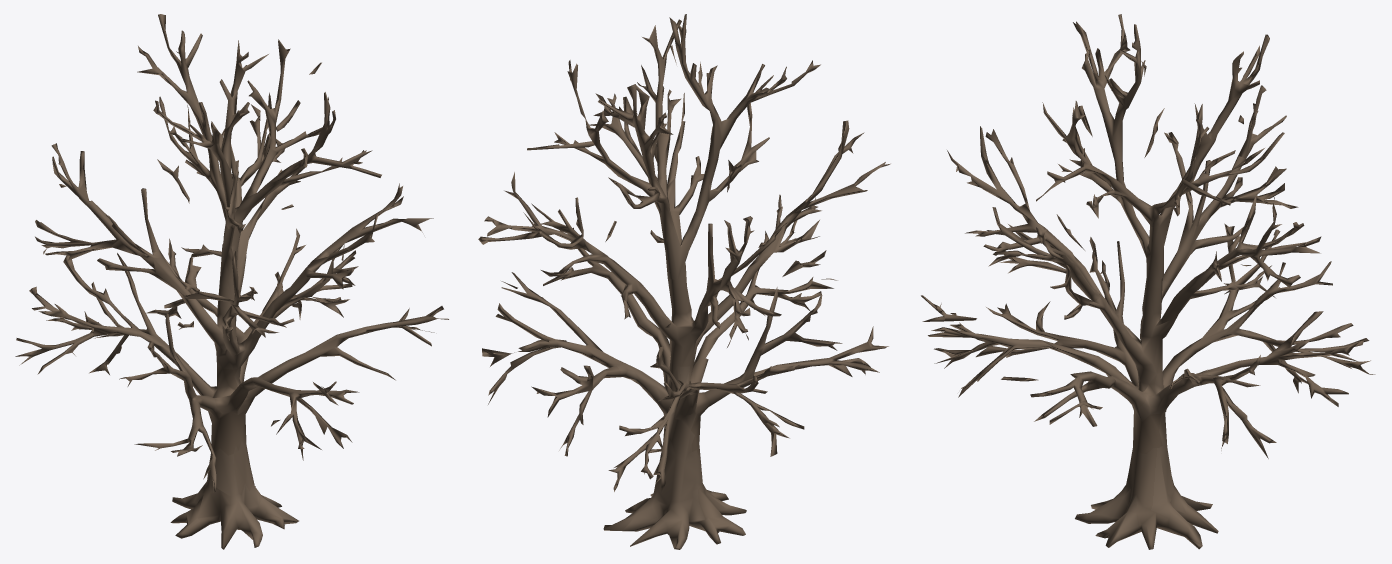
Rendered from oak_tree_lod1.glb.
The picture shows the model from 3 angles, left to right: view 1: azimuth 30°, elevation 25°; view 2: azimuth 150°, elevation 25°; view 3: azimuth 270°, elevation 25°; orthographic projection. The views are drawn at different scales.
Size of the model in its own units: 1.33 by 1.9 by 1.57.
1 material, 1 textured.
